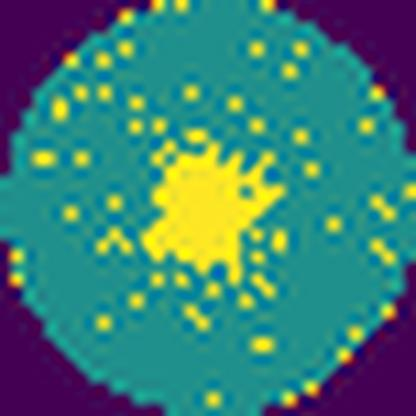Center: (146, 138, 288, 274)
